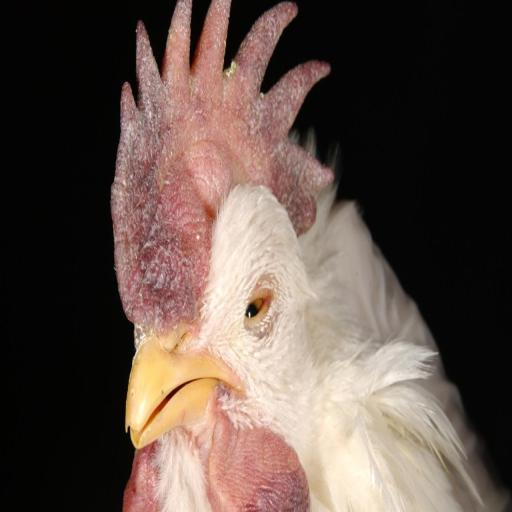disease: (129, 8, 344, 258), (109, 82, 200, 325), (219, 248, 286, 347)
